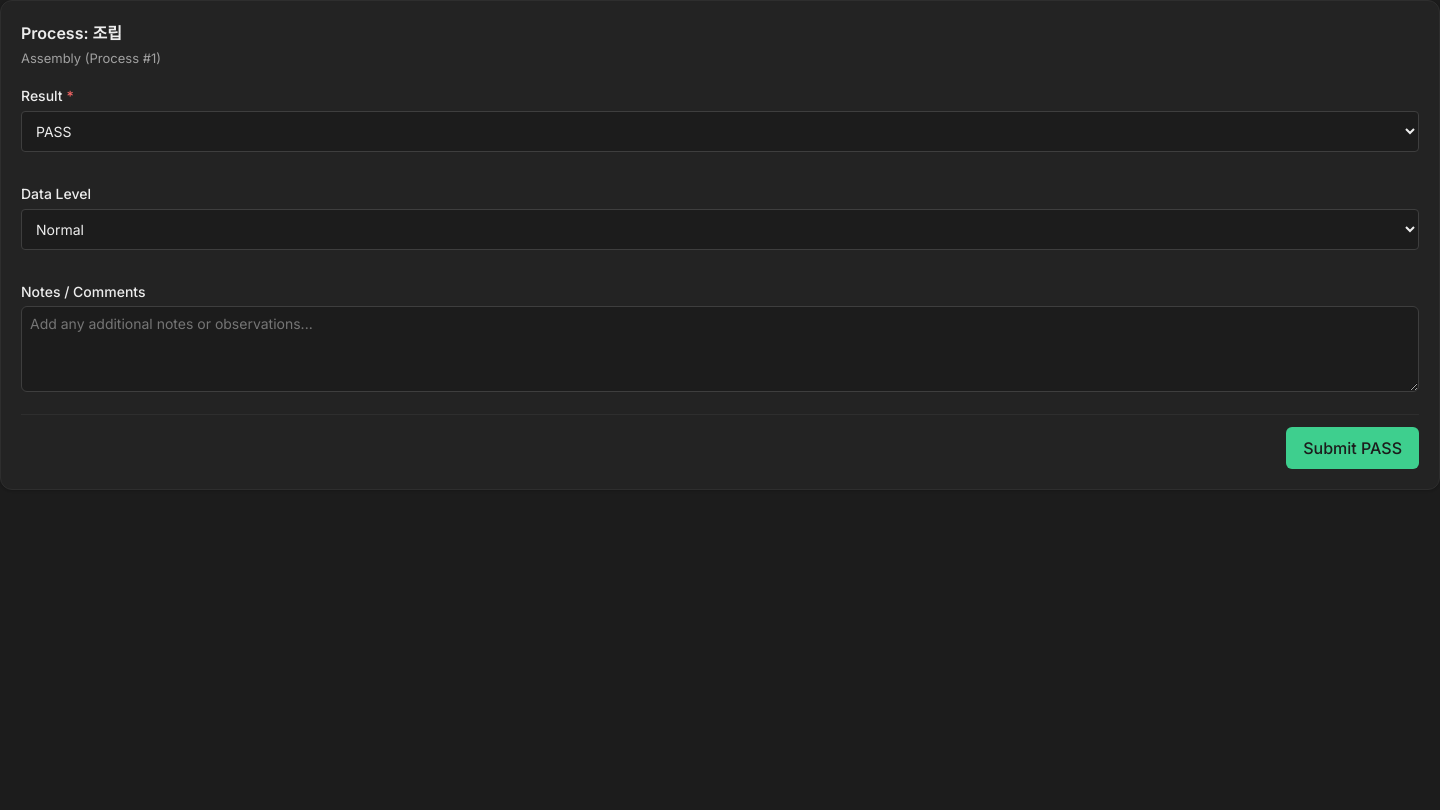
Test case: MeasurementForm › requires at least one defect code when result is FAIL
The width and height of the screenshot is (1440, 810).
Select "FAIL" in the dropdown labelled "Result*" at (720, 131), box [21,110,1419,152]
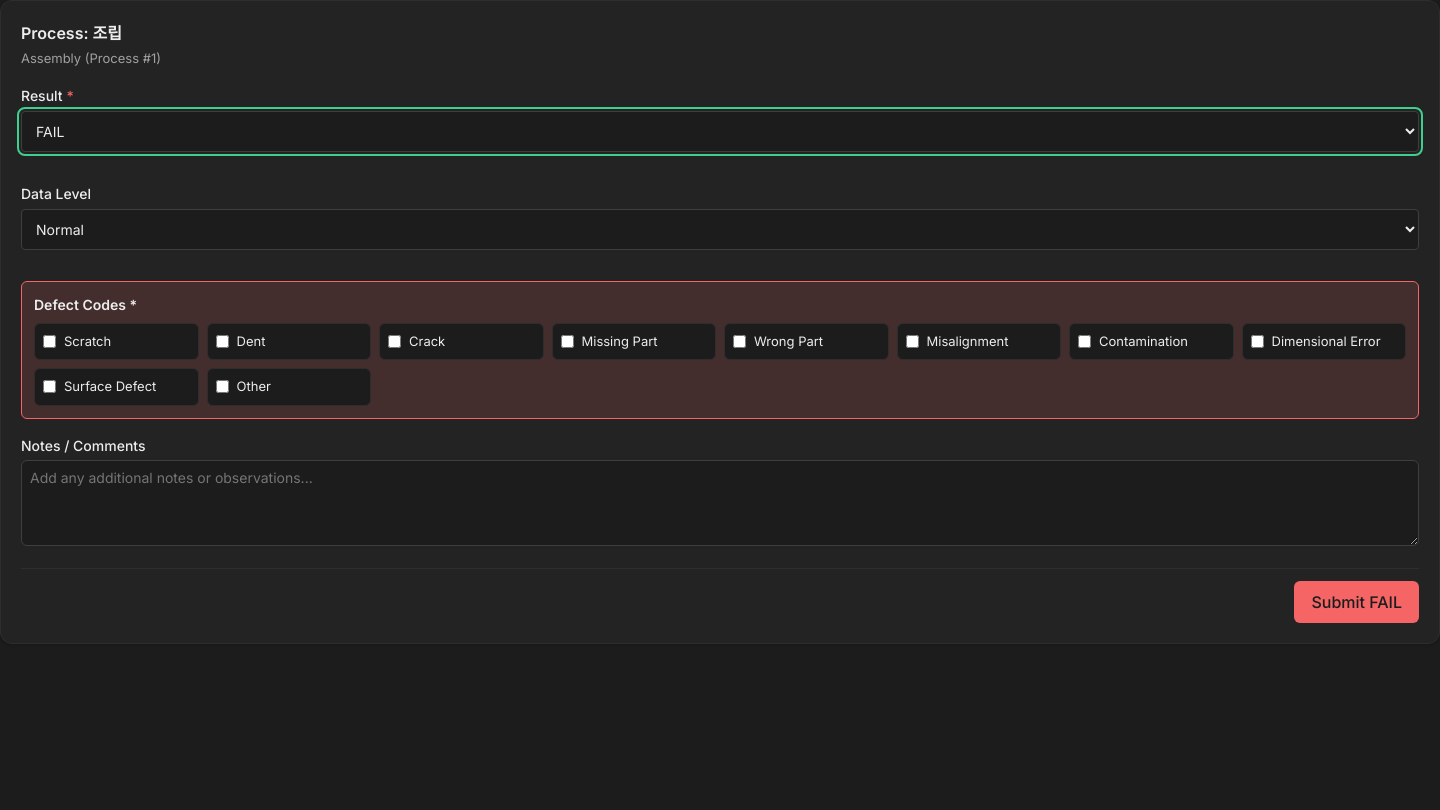
Click the button "Submit FAIL" at (1357, 602), box [1294,580,1419,622]
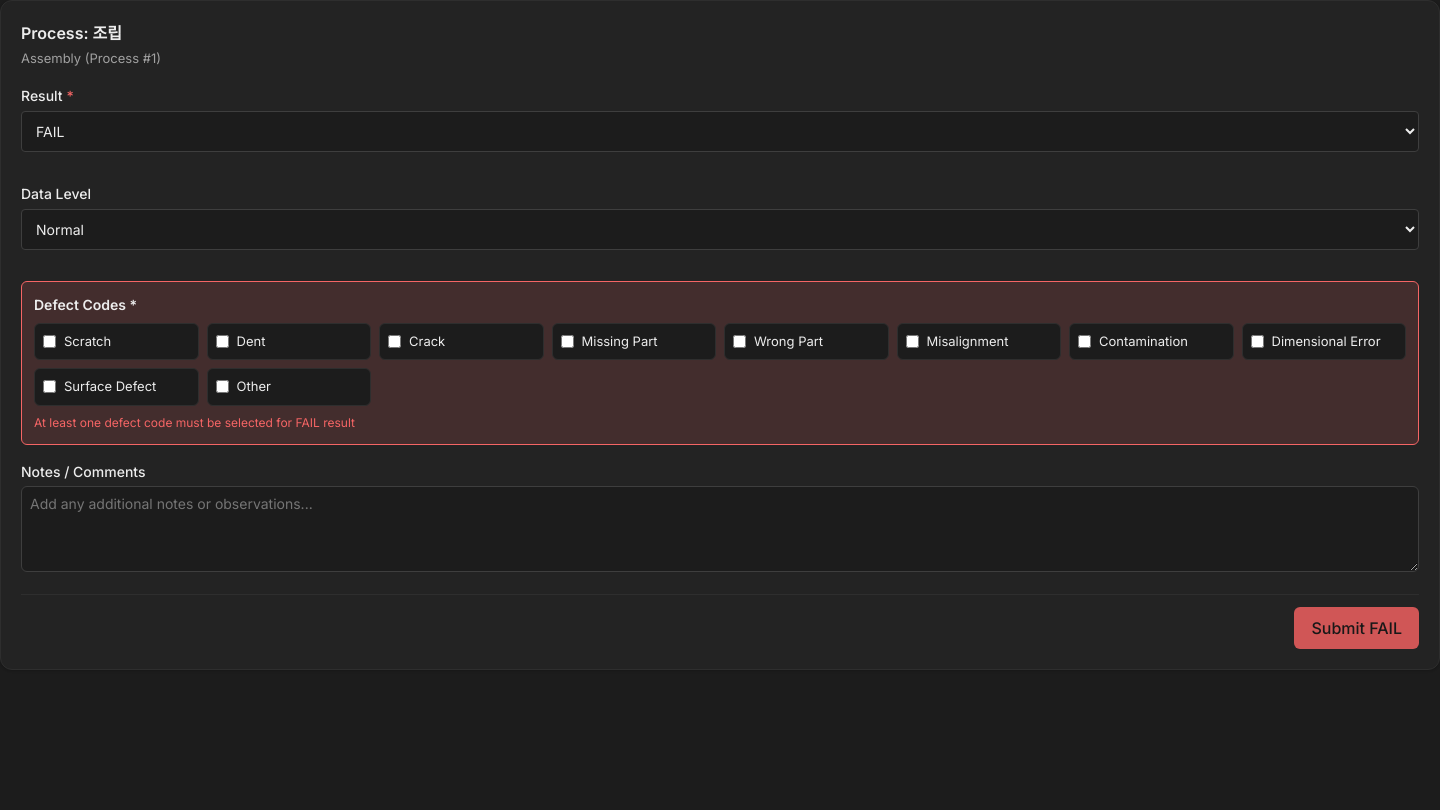
Expected: the text "At least one defect code must be selected for FAIL result" is shown, [34,414,355,430]
